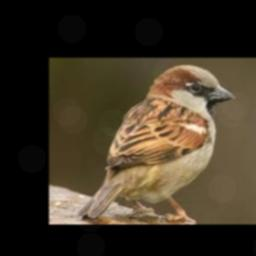Sparrow: (77, 64, 236, 221)
